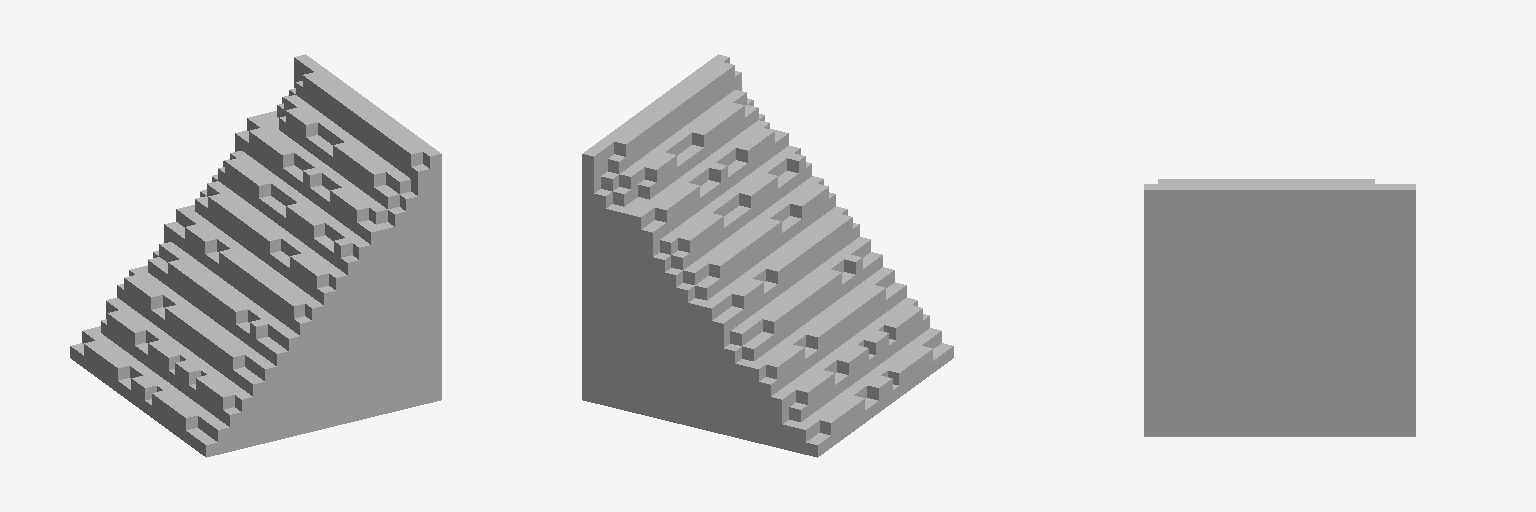
The model's file is stair_damaged.obj.
3 renders of one model, left to right at view 1: azimuth 30°, elevation 25°; view 2: azimuth 150°, elevation 25°; view 3: azimuth 270°, elevation 25°, orthographic.
Parts seen in each view (by area): view 1: stair_damaged; view 2: stair_damaged; view 3: stair_damaged.
Boxes of the visible parts, box(x1,y1,x2,y2) form: stair_damaged: box(70, 54, 441, 457); stair_damaged: box(582, 54, 953, 457); stair_damaged: box(1144, 179, 1415, 436).
Size of the model in its own units: 20 by 20 by 20.